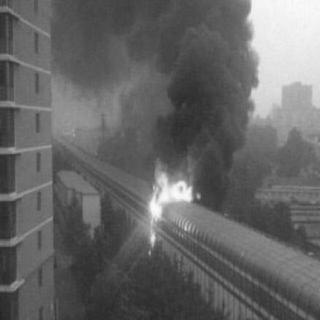Fire: (144, 160, 198, 250)
